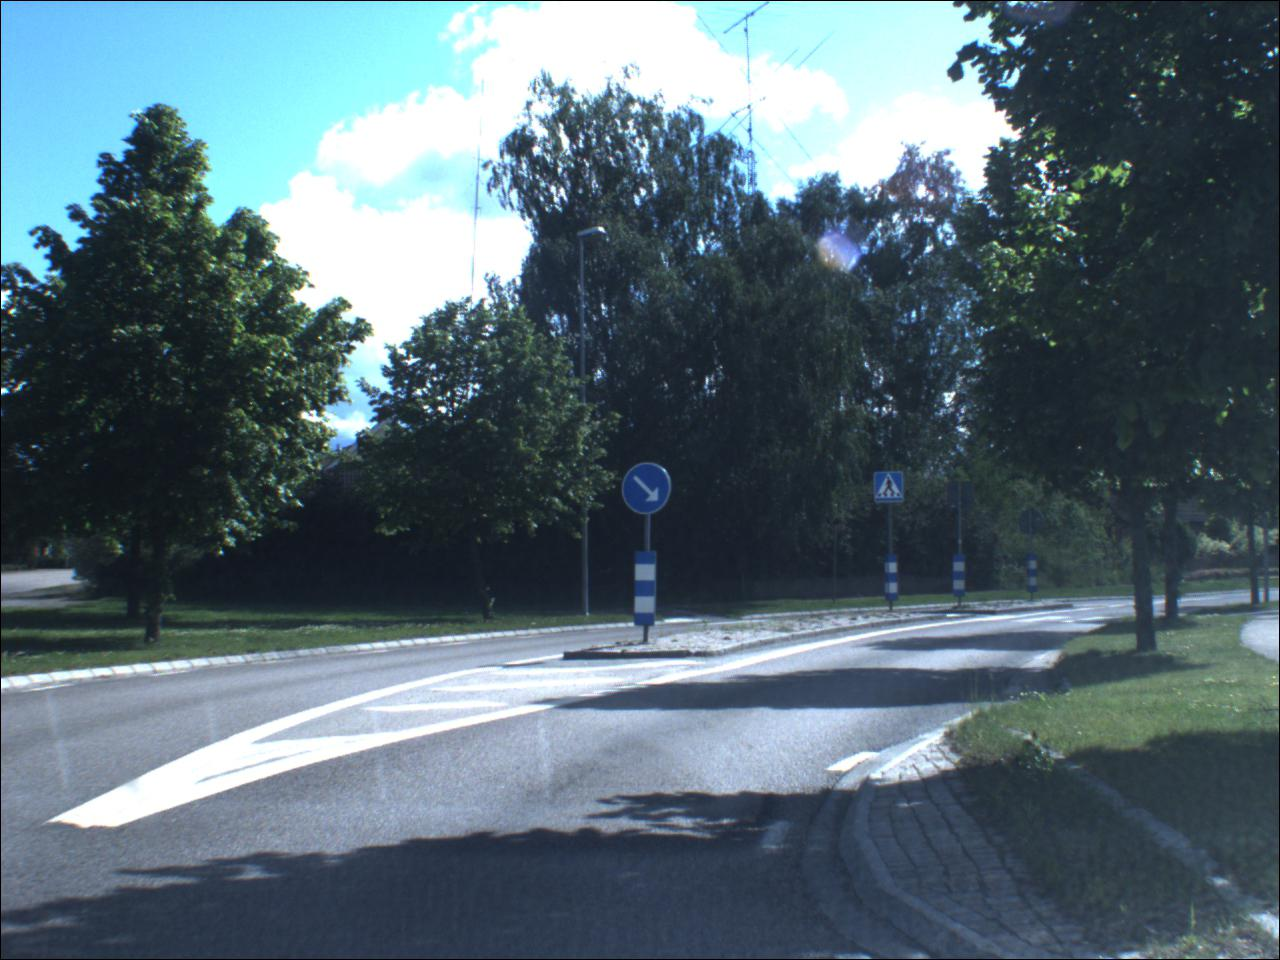PASS_RIGHT_SIDE: (623, 465, 674, 518)
PEDESTRIAN_CROSSING: (876, 474, 907, 505)
